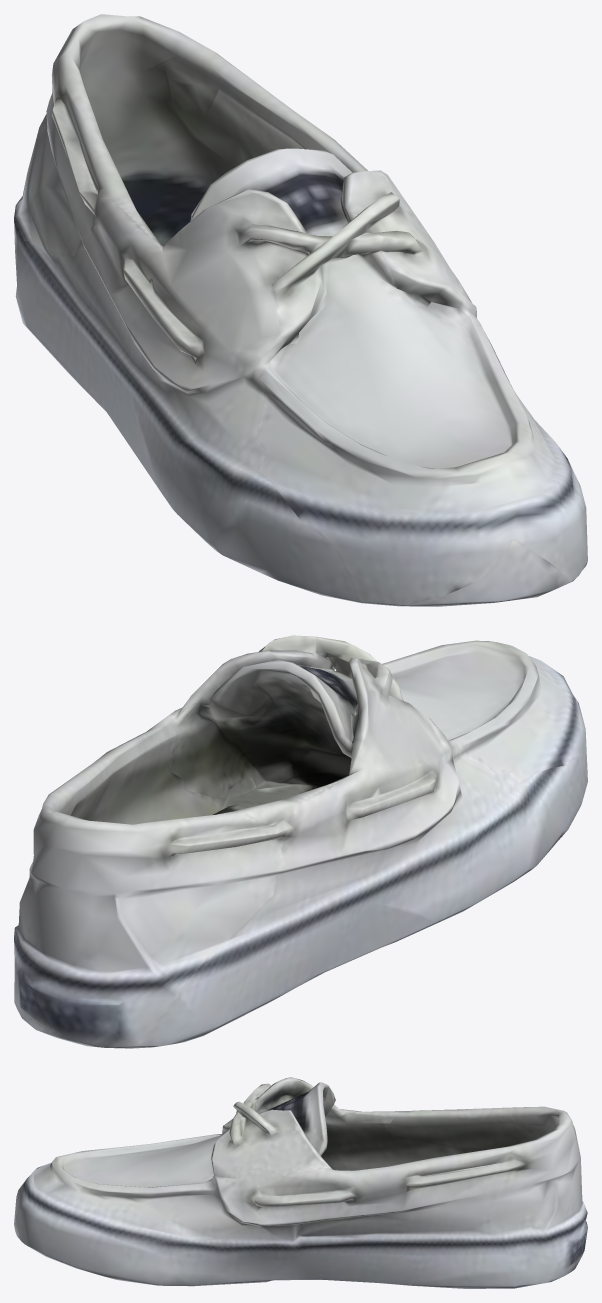
File: gso_womens_canvas_bahama_in_white_4uyohp6rygo.glb
3 renders of one model, top to bottom at view 1: azimuth 30°, elevation 25°; view 2: azimuth 150°, elevation 25°; view 3: azimuth 270°, elevation 25°, orthographic. The views are drawn at different scales.
Visible parts, largest first — view 1: z-up-to-y-up; view 2: z-up-to-y-up; view 3: z-up-to-y-up.
Boxes of the visible parts, bbox=[...] form: z-up-to-y-up: bbox=[14, 14, 587, 606]; z-up-to-y-up: bbox=[14, 635, 587, 1048]; z-up-to-y-up: bbox=[14, 1077, 587, 1288].
Size of the model in its own units: 0.09 by 0.0796 by 0.2448.
1 material, 1 textured.
